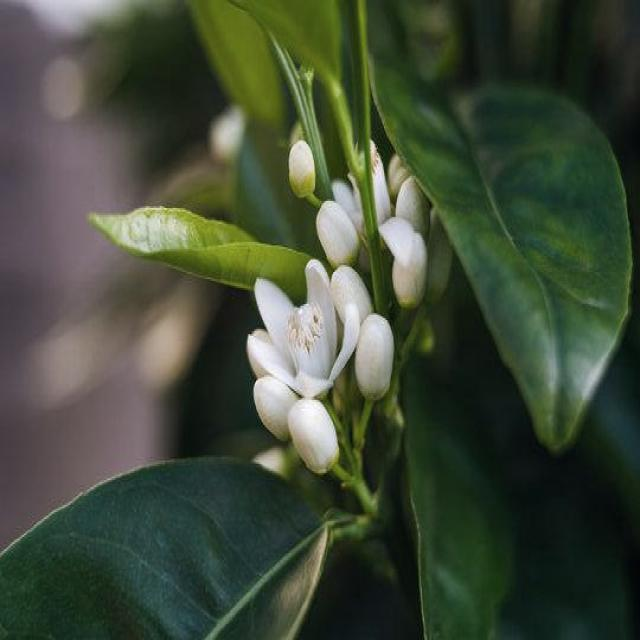Bunga: (248, 263, 362, 400), (333, 142, 422, 265), (290, 396, 342, 476), (330, 264, 374, 340), (358, 316, 395, 406), (392, 231, 428, 313), (318, 200, 360, 268), (254, 375, 298, 437), (396, 178, 432, 252), (289, 143, 317, 205)
